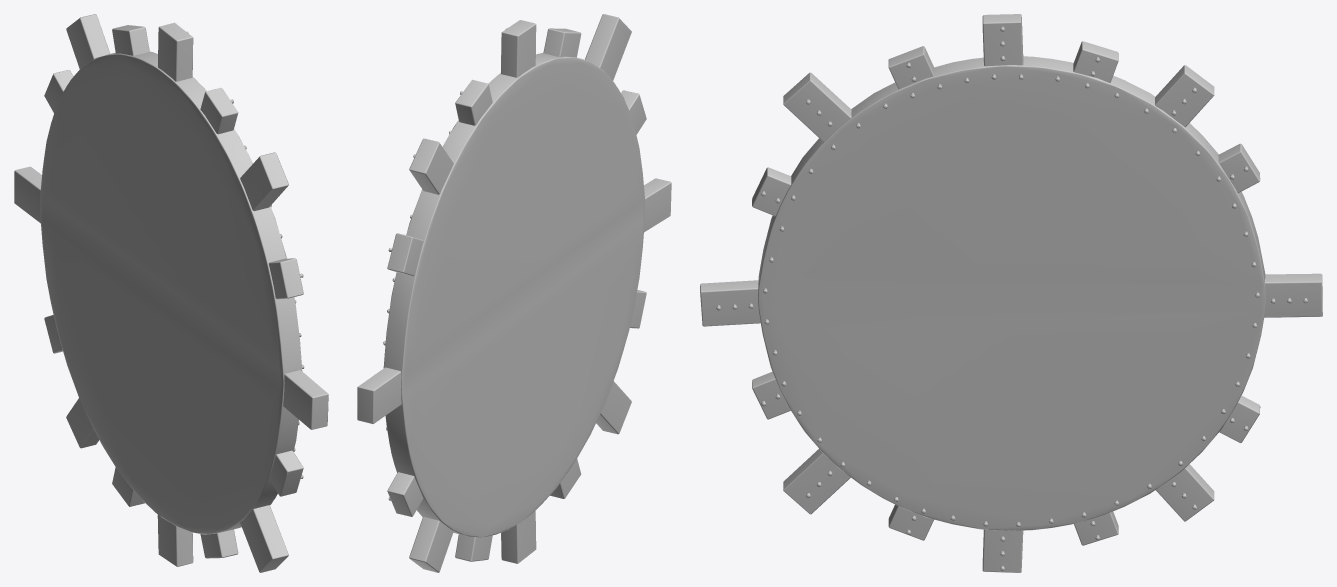
The model's file is SM_BumperCar_Sun_01a.fbx.
The picture shows the model from 3 angles, left to right: view 1: azimuth 30°, elevation 25°; view 2: azimuth 150°, elevation 25°; view 3: azimuth 270°, elevation 25°; orthographic projection. The views are drawn at different scales.
Parts seen in each view (by area): view 1: SM_BumperCar_Sun_01a_LOD0; view 2: SM_BumperCar_Sun_01a_LOD0; view 3: SM_BumperCar_Sun_01a_LOD0.
Part boxes in pixels (bbox=[...]): SM_BumperCar_Sun_01a_LOD0: bbox=[14, 14, 328, 572]; SM_BumperCar_Sun_01a_LOD0: bbox=[357, 14, 671, 572]; SM_BumperCar_Sun_01a_LOD0: bbox=[700, 14, 1322, 572].
Size of the model in its own units: 62.98 by 1297 by 1267.
